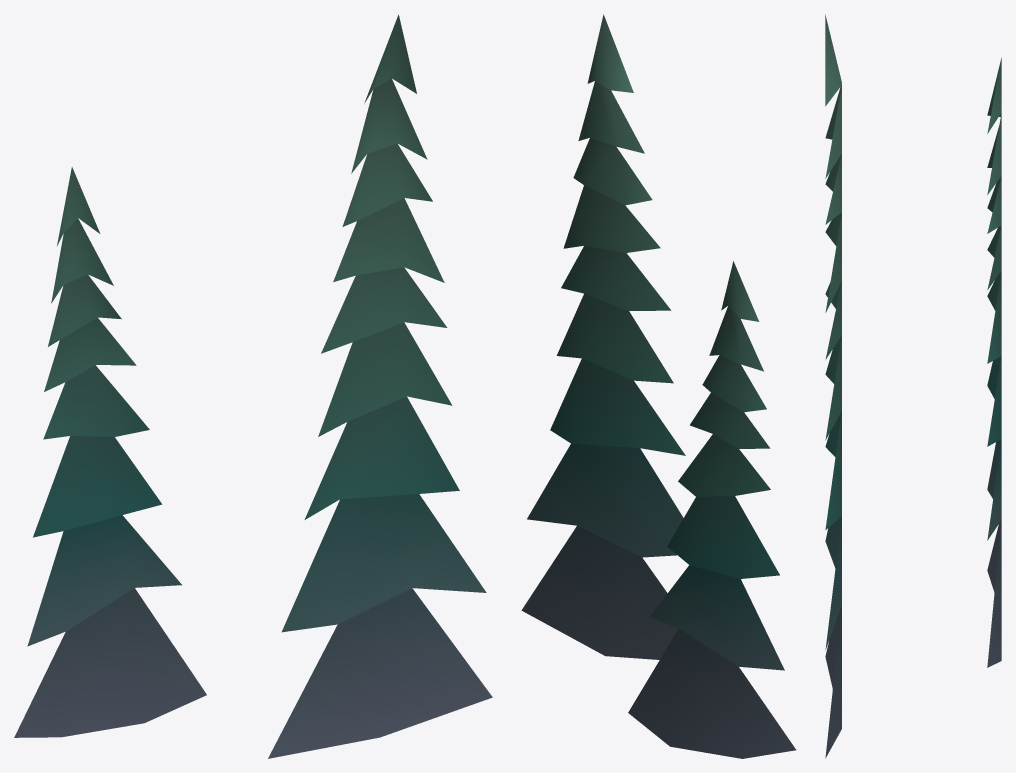
The model's file is Prop-distance_spruces_03.glb.
3 views of the same model, side by side, from view 1: azimuth 30°, elevation 25°; view 2: azimuth 150°, elevation 25°; view 3: azimuth 270°, elevation 25° (orthographic). The views are drawn at different scales.
Visible parts, largest first — view 1: Prop-distance_spruces_03; view 2: Prop-distance_spruces_03; view 3: Prop-distance_spruces_03.
Boxes of the visible parts, x1=… form: Prop-distance_spruces_03: x1=14, y1=14, x2=492, y2=758; Prop-distance_spruces_03: x1=521, y1=14, x2=796, y2=758; Prop-distance_spruces_03: x1=825, y1=14, x2=1001, y2=758.
Bounding box in the file's own units: 8.66 × 15.3 × 3.36.
